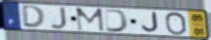D: (20, 4, 47, 30), (103, 8, 130, 33)
J: (140, 11, 161, 34), (49, 6, 68, 30)
M: (75, 7, 106, 33)
O: (164, 12, 188, 36)
